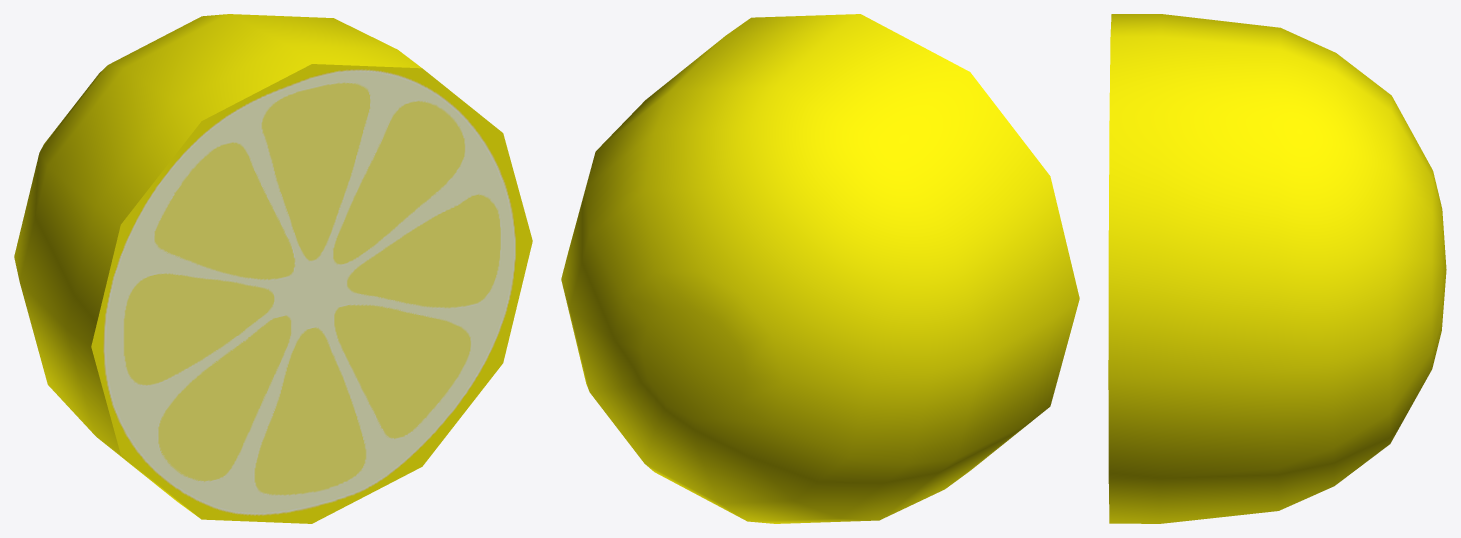
File: Lemon Bottom.FBX
The picture shows the model from 3 angles, left to right: view 1: azimuth 30°, elevation 25°; view 2: azimuth 150°, elevation 25°; view 3: azimuth 270°, elevation 25°; orthographic projection.
Visible parts, largest first — view 1: Object001; view 2: Object001; view 3: Object001.
Part boxes in pixels (x1=…): Object001: x1=14, y1=14, x2=532, y2=523; Object001: x1=561, y1=14, x2=1079, y2=523; Object001: x1=1108, y1=14, x2=1446, y2=523.
Size of the model in its own units: 69.43 by 69.42 by 45.84.
